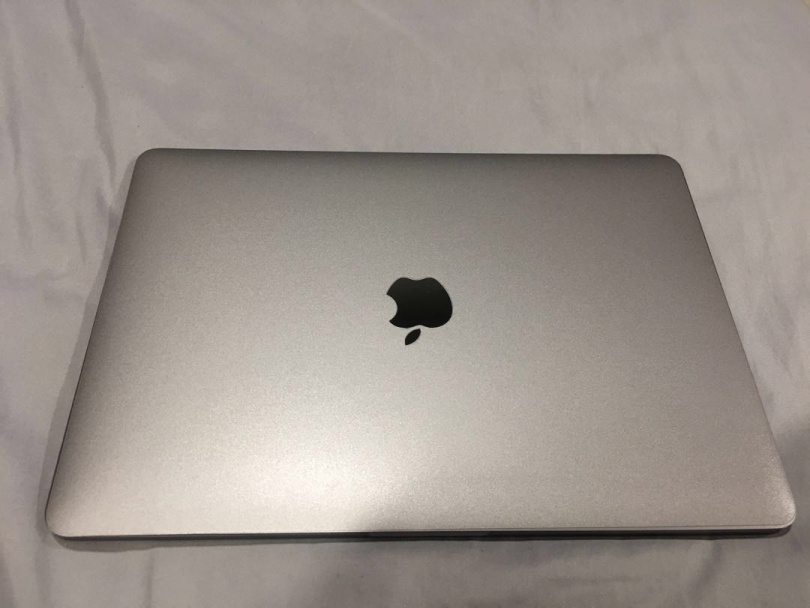apple: (334, 209, 468, 361)
